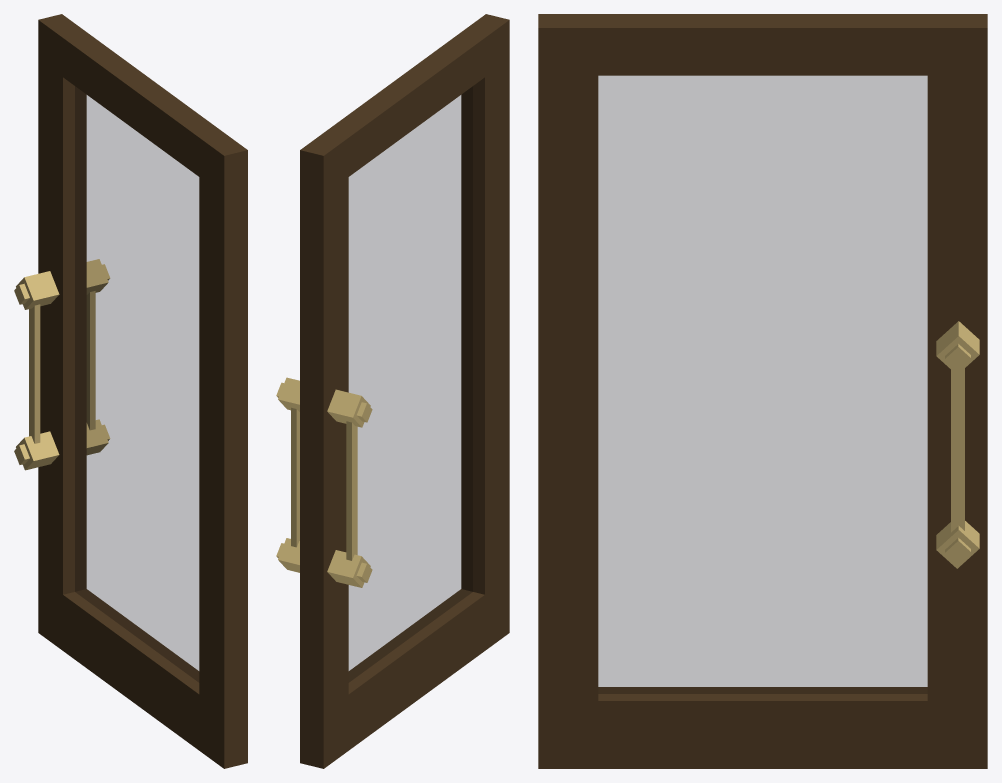
Rendered from SM_doorShop_02.glb.
3 renders of one model, left to right at view 1: azimuth 30°, elevation 25°; view 2: azimuth 150°, elevation 25°; view 3: azimuth 270°, elevation 25°, orthographic. The views are drawn at different scales.
Parts seen in each view (by area): view 1: SM_doorShop_02; view 2: SM_doorShop_02; view 3: SM_doorShop_02.
Boxes of the visible parts, x1,y1,x2,y2 form: SM_doorShop_02: [14, 14, 247, 768]; SM_doorShop_02: [276, 14, 509, 768]; SM_doorShop_02: [538, 14, 987, 768].
Bounding box in the file's own units: 0.3186 × 2.18 × 1.2.
3 materials, 1 textured.
